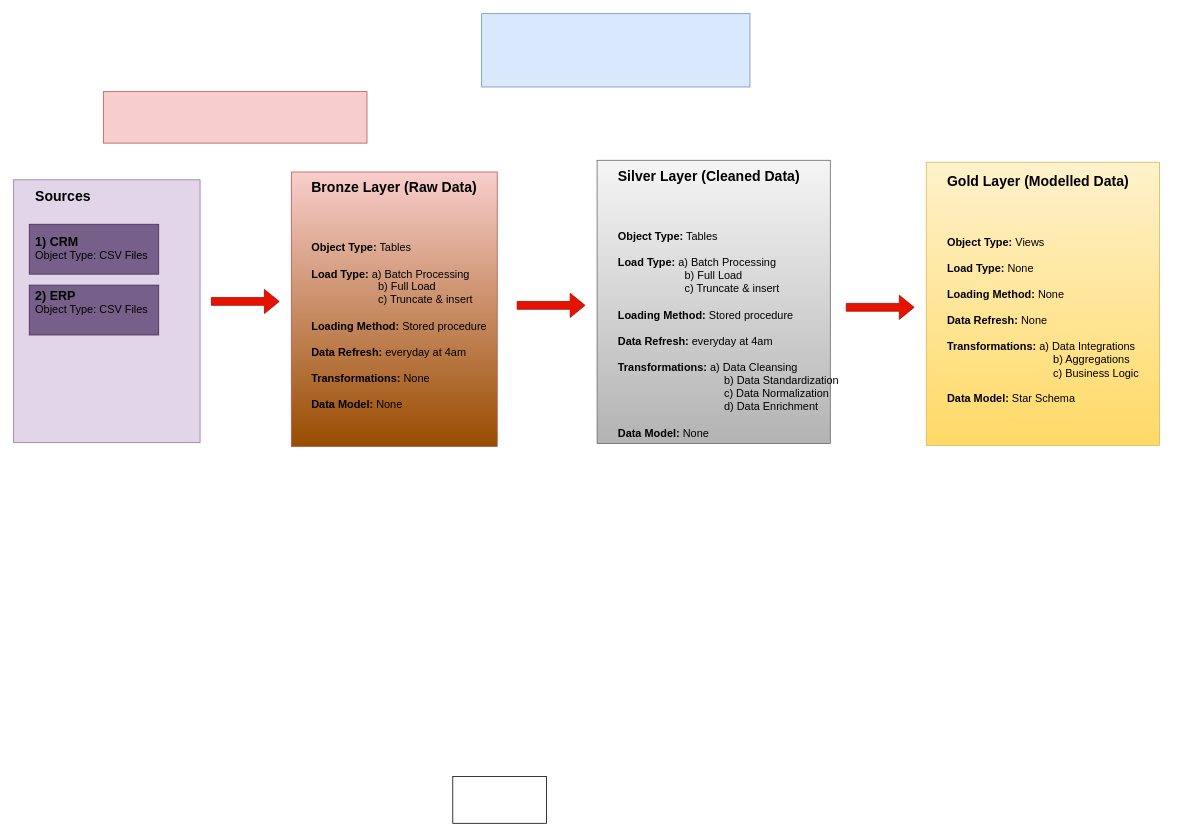
Some shapes in this 1202 by 837 pixel diagram are drawn without their labels. The box of each missing label's shape, as (x1, y1, x2, y2) in pixels:
Data Architecture: (481, 13, 750, 87)
Data Architecture Type: Data Warehouse Tool Used: SQL Server: (103, 91, 367, 143)
